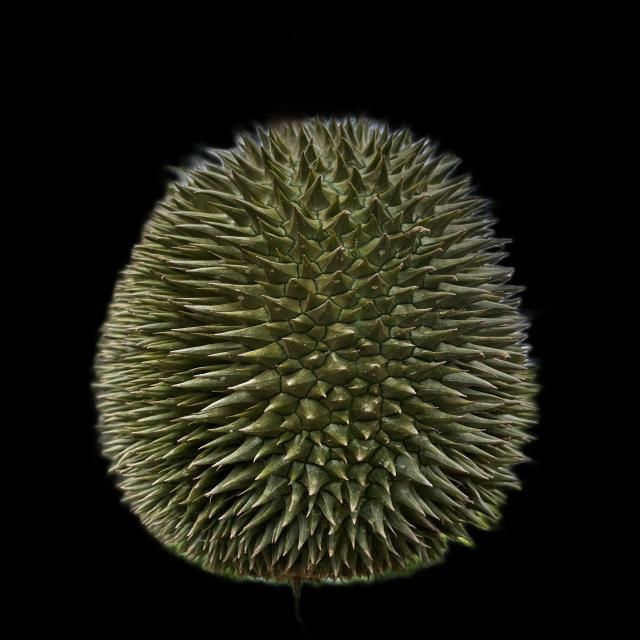immature: (92, 108, 542, 582)
